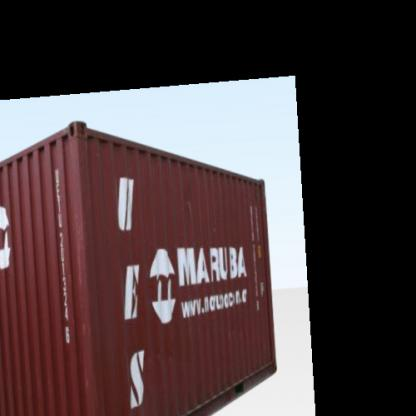Damage: (73, 206, 100, 292), (130, 338, 184, 370), (178, 174, 206, 230), (218, 316, 254, 338)
